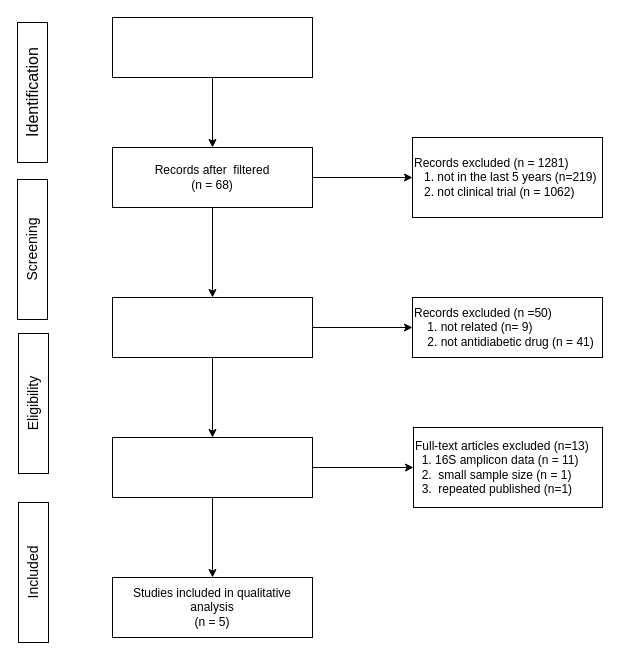
The diagram is 620 pixels wide and 660 high, and some of its shapes have lost their labels. The centre of each missing label's shape, as x and y in pixels:
Full-text articles for eligibility (n = 5 ): pixel 212 467
Records identified through database searching (n = 1349 ): pixel 212 47
Title and abstract reviewed (n = 18): pixel 212 327
